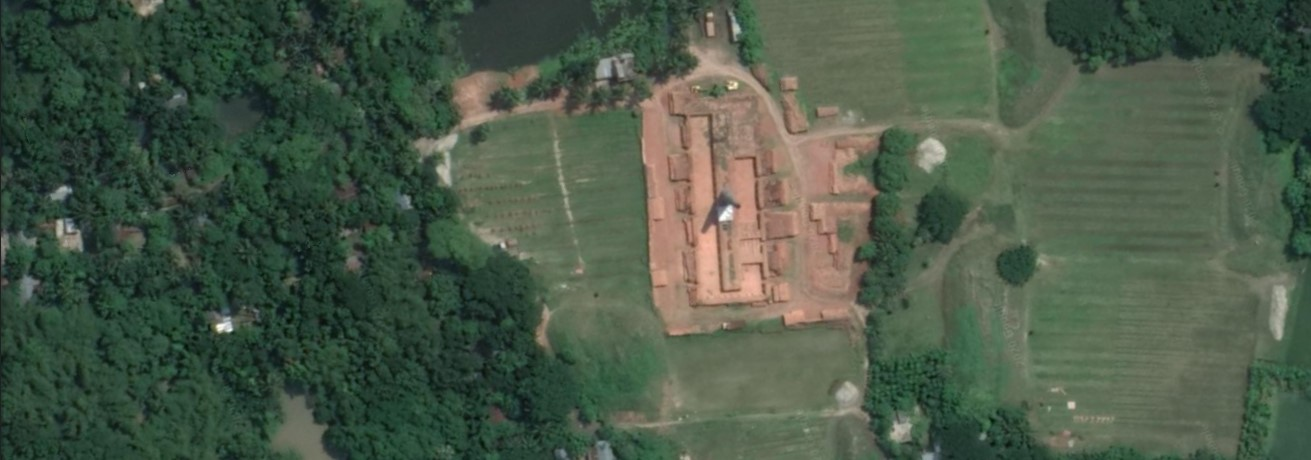kiln: (655, 91, 804, 301)
